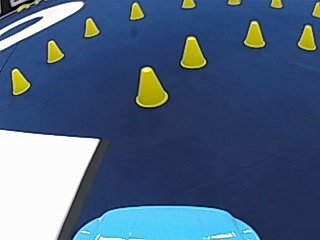cone: (134, 65, 168, 107), (179, 35, 206, 68), (243, 19, 265, 47), (296, 23, 316, 49), (10, 67, 29, 94), (45, 39, 63, 62), (83, 16, 99, 37), (129, 1, 144, 20), (311, 1, 319, 17), (181, 0, 195, 9), (270, 0, 282, 8)
